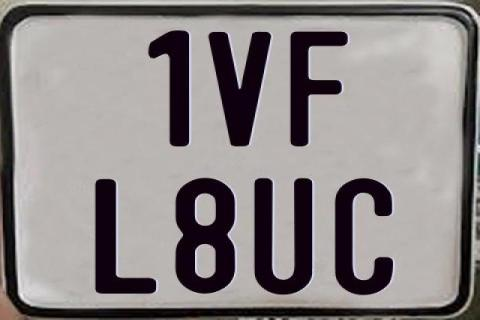0: (173, 176, 238, 294), (147, 29, 193, 149)
C: (334, 177, 398, 299)
F: (290, 29, 350, 145)
L: (93, 177, 154, 293)
U: (252, 179, 312, 297)
V: (206, 30, 271, 148)
